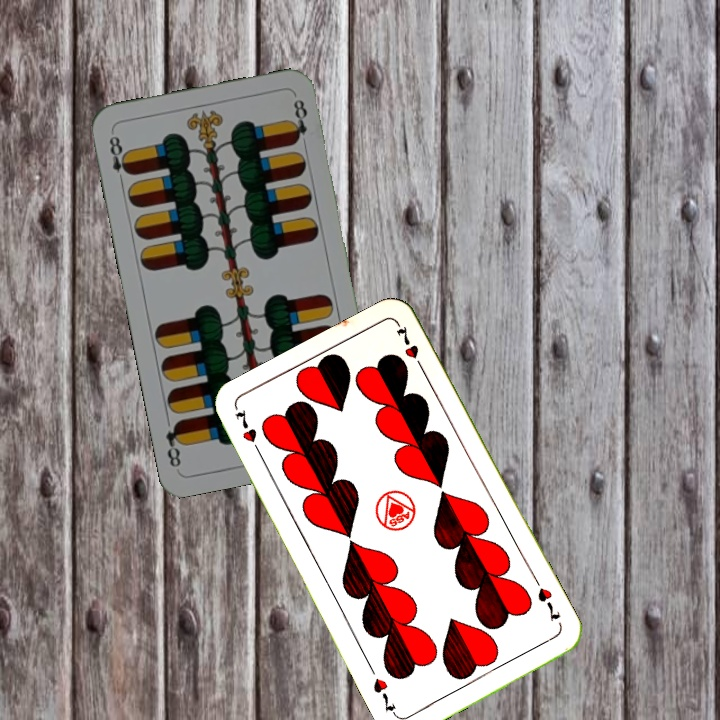E8: (105, 132, 134, 187)
H7: (231, 405, 265, 460), (533, 583, 564, 624)
